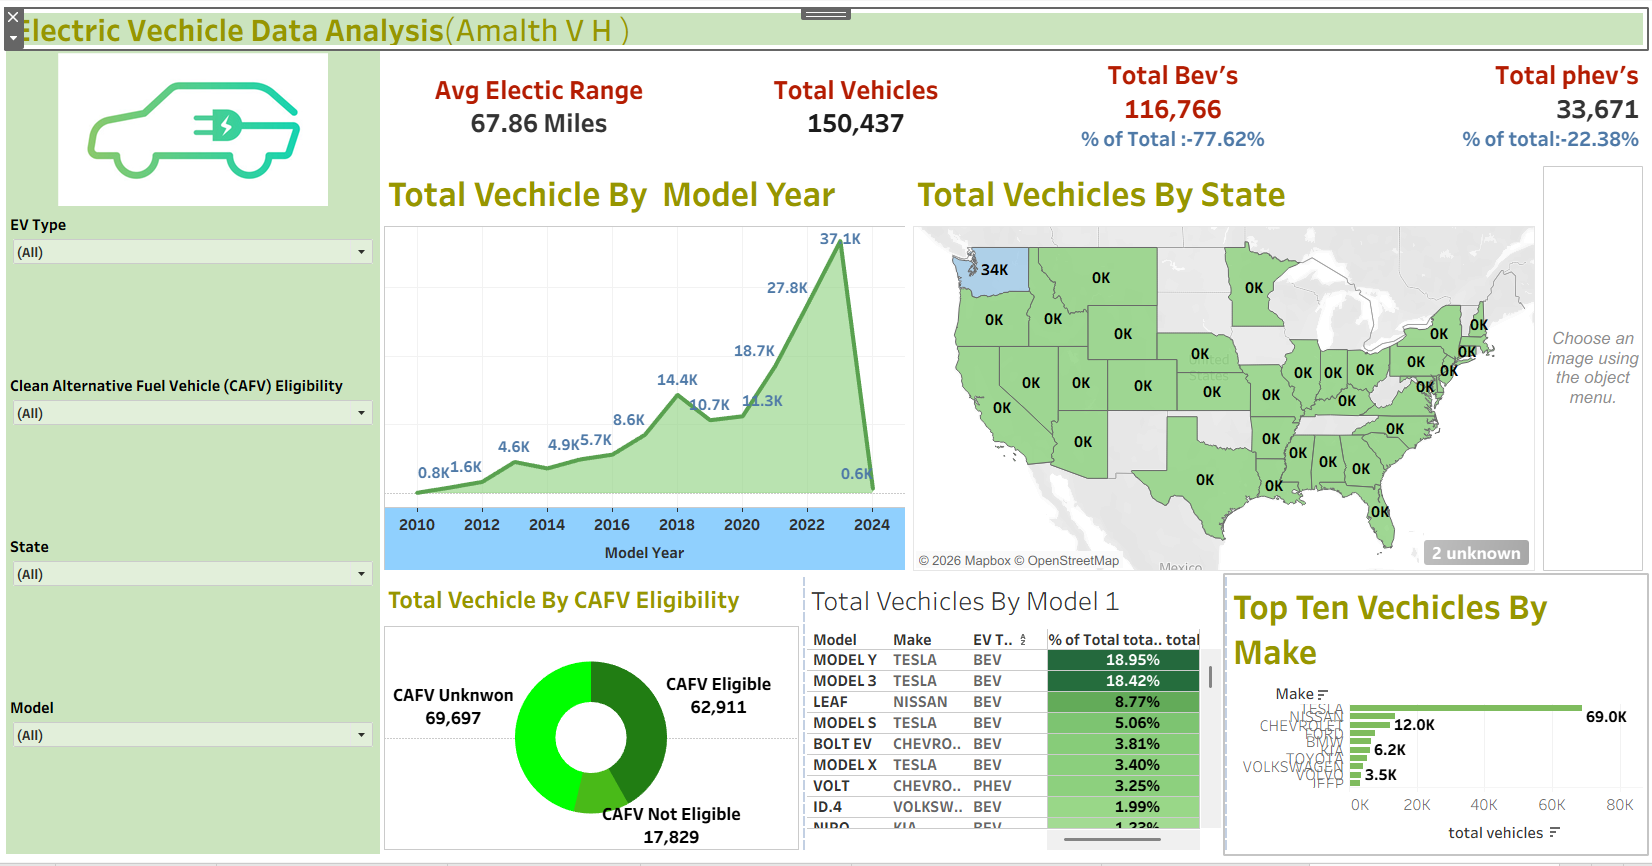

Layout of this report page (visuals, bound fields, positions):
{"tool":"tableau","page":{"name":"Electric Vechicle Data Analysis","canvas":[1000,1000],"units":"permille","ordinal":0},"visuals":[{"type":"title","box":[4.8,9.3,990.3,46.4]},{"type":"image","param":"Image/240_F_524935557_JjYRXDktED3P5YlSnkAqikICzypWonqY.jpg.jpeg","box":[4.8,55.8,225.7,187]},{"type":"worksheet","title":"Average Electric Range","mark":"Automatic","box":[230.5,55.8,191.3,131.2]},{"type":"worksheet","title":"Total Vehicles","mark":"Automatic","box":[421.9,55.8,191.3,131.2]},{"type":"worksheet","title":"Total bev vehicles","mark":"Automatic","box":[613.2,55.8,191.3,131.2]},{"type":"worksheet","title":"Total Phev vechicles","mark":"Automatic","box":[804.5,55.8,190.7,131.2]},{"type":"worksheet","title":"Total Vechicle By  Model Year ","mark":"Area","rows":["Calculation_2477524971806720","Calculation_2477524971806720"],"cols":["Model Year"],"box":[230.5,187,319.6,479.6]},{"type":"worksheet","title":"Total Vechicles By State ","mark":"Automatic","box":[550.1,187,379.9,479.6]},{"type":"image","box":[930,187,65.2,479.6]},{"type":"filter","title":"Top Ten Vechicles By Make","param":"[federated.0h4xfca1316j7s1b1e1mv18qphfa].[none:Electric Vehicle Type:nk]","box":[4.8,242.7,225.7,187]},{"type":"filter","title":"Top Ten Vechicles By Make","param":"[federated.0h4xfca1316j7s1b1e1mv18qphfa].[none:Clean Alternative Fuel Vehicle (C","box":[4.8,429.7,225.7,187]},{"type":"filter","title":"Top Ten Vechicles By Make","param":"[federated.0h4xfca1316j7s1b1e1mv18qphfa].[none:State:nk]","box":[4.8,616.7,225.7,187]},{"type":"worksheet","title":"Total Vechicle By CAFV Eligibility ","mark":"Pie","rows":["Calculation_5324985993764867","Calculation_5324985993764867"],"box":[230.5,666.7,255.3,324]},{"type":"worksheet","title":"Total Vechicles By Model 1","mark":"Square","rows":["Model","Make","Electric Vehicle Type"],"box":[485.8,666.7,254.7,324]},{"type":"worksheet","title":"Top Ten Vechicles By Make","mark":"Automatic","rows":["Make"],"cols":["Calculation_2477524971806720"],"box":[740.5,666.7,254.7,324]},{"type":"filter","title":"Top Ten Vechicles By Make","param":"[federated.0h4xfca1316j7s1b1e1mv18qphfa].[none:Model:nk]","box":[4.8,803.7,225.7,187]}]}

Visuals, with their boxes on the dashboard's canvas, which has no fixed pixel size, in thousandths of its width and height (x1, y1, x2, y2). These are canvas units, not pixel positions in the 1652x866 screenshot, which may show the page scaled, cropped or inside an application window:
title: l=5, t=9, r=995, b=56
image: l=5, t=56, r=230, b=243
"Average Electric Range" worksheet: l=230, t=56, r=422, b=187
"Total Vehicles" worksheet: l=422, t=56, r=613, b=187
"Total bev vehicles" worksheet: l=613, t=56, r=804, b=187
"Total Phev vechicles" worksheet: l=804, t=56, r=995, b=187
"Total Vechicle By  Model Year " worksheet (Area marks): l=230, t=187, r=550, b=667
"Total Vechicles By State " worksheet: l=550, t=187, r=930, b=667
image: l=930, t=187, r=995, b=667
"Top Ten Vechicles By Make" filter: l=5, t=243, r=230, b=430
"Top Ten Vechicles By Make" filter: l=5, t=430, r=230, b=617
"Top Ten Vechicles By Make" filter: l=5, t=617, r=230, b=804
"Total Vechicle By CAFV Eligibility " worksheet (Pie marks): l=230, t=667, r=486, b=991
"Total Vechicles By Model 1" worksheet (Square marks): l=486, t=667, r=740, b=991
"Top Ten Vechicles By Make" worksheet: l=740, t=667, r=995, b=991
"Top Ten Vechicles By Make" filter: l=5, t=804, r=230, b=991
